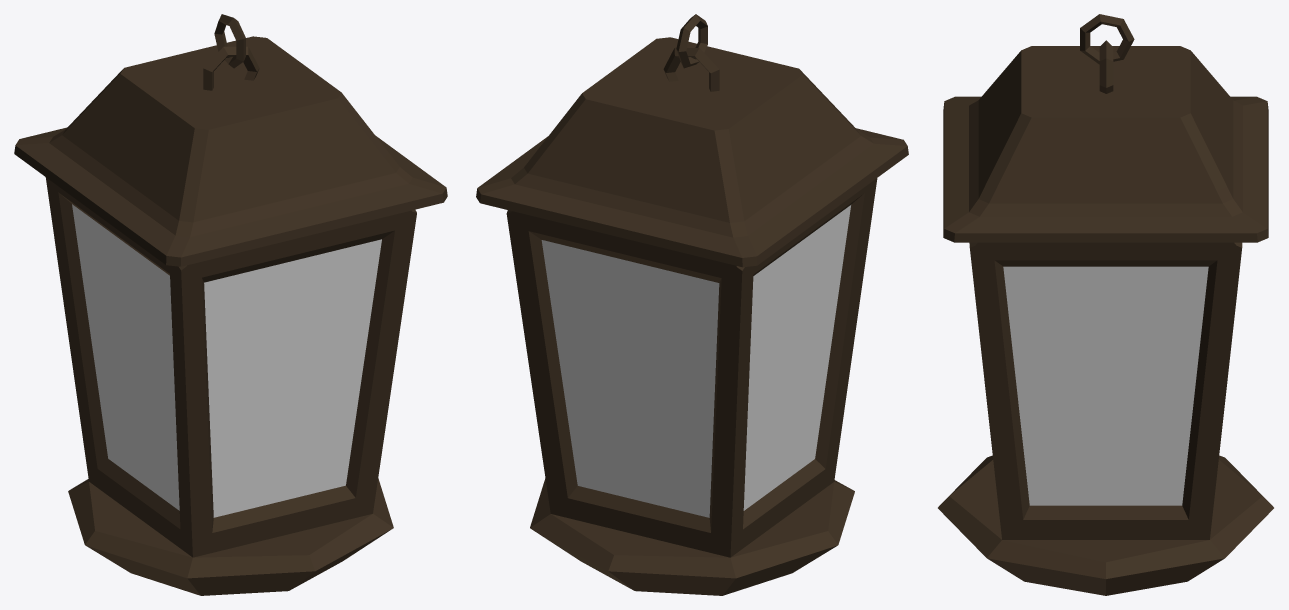
Rendered from Lantern (Colored).fbx.
3 renders of one model, left to right at view 1: azimuth 30°, elevation 25°; view 2: azimuth 150°, elevation 25°; view 3: azimuth 270°, elevation 25°, orthographic.
Parts seen in each view (by area): view 1: Torus.001; view 2: Torus.001; view 3: Torus.001.
Boxes of the visible parts, <box> form: Torus.001: <box>14,14,447,595</box>; Torus.001: <box>476,14,908,595</box>; Torus.001: <box>938,14,1273,595</box>.
Bounding box in the file's own units: 191 × 332 × 191.
